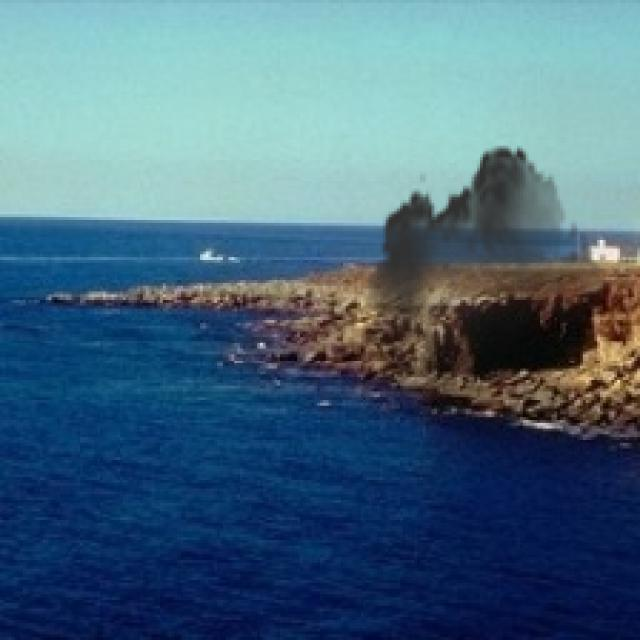smoke: (360, 134, 614, 414)
